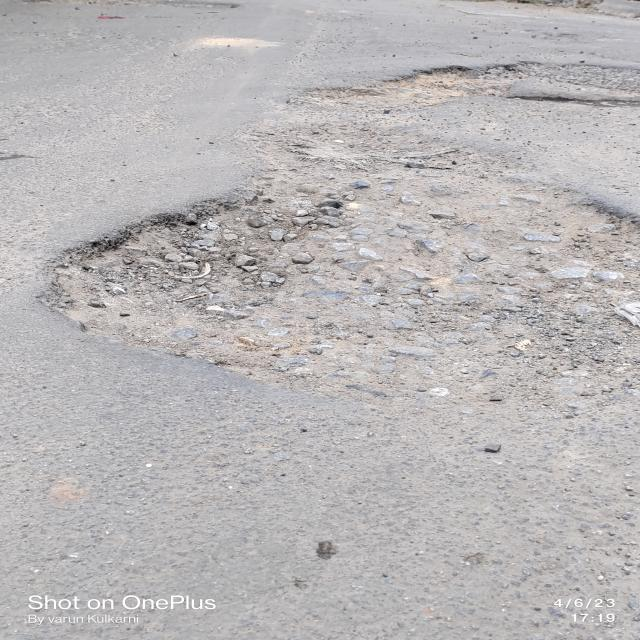potholes: (40, 189, 640, 413), (254, 66, 640, 122)
